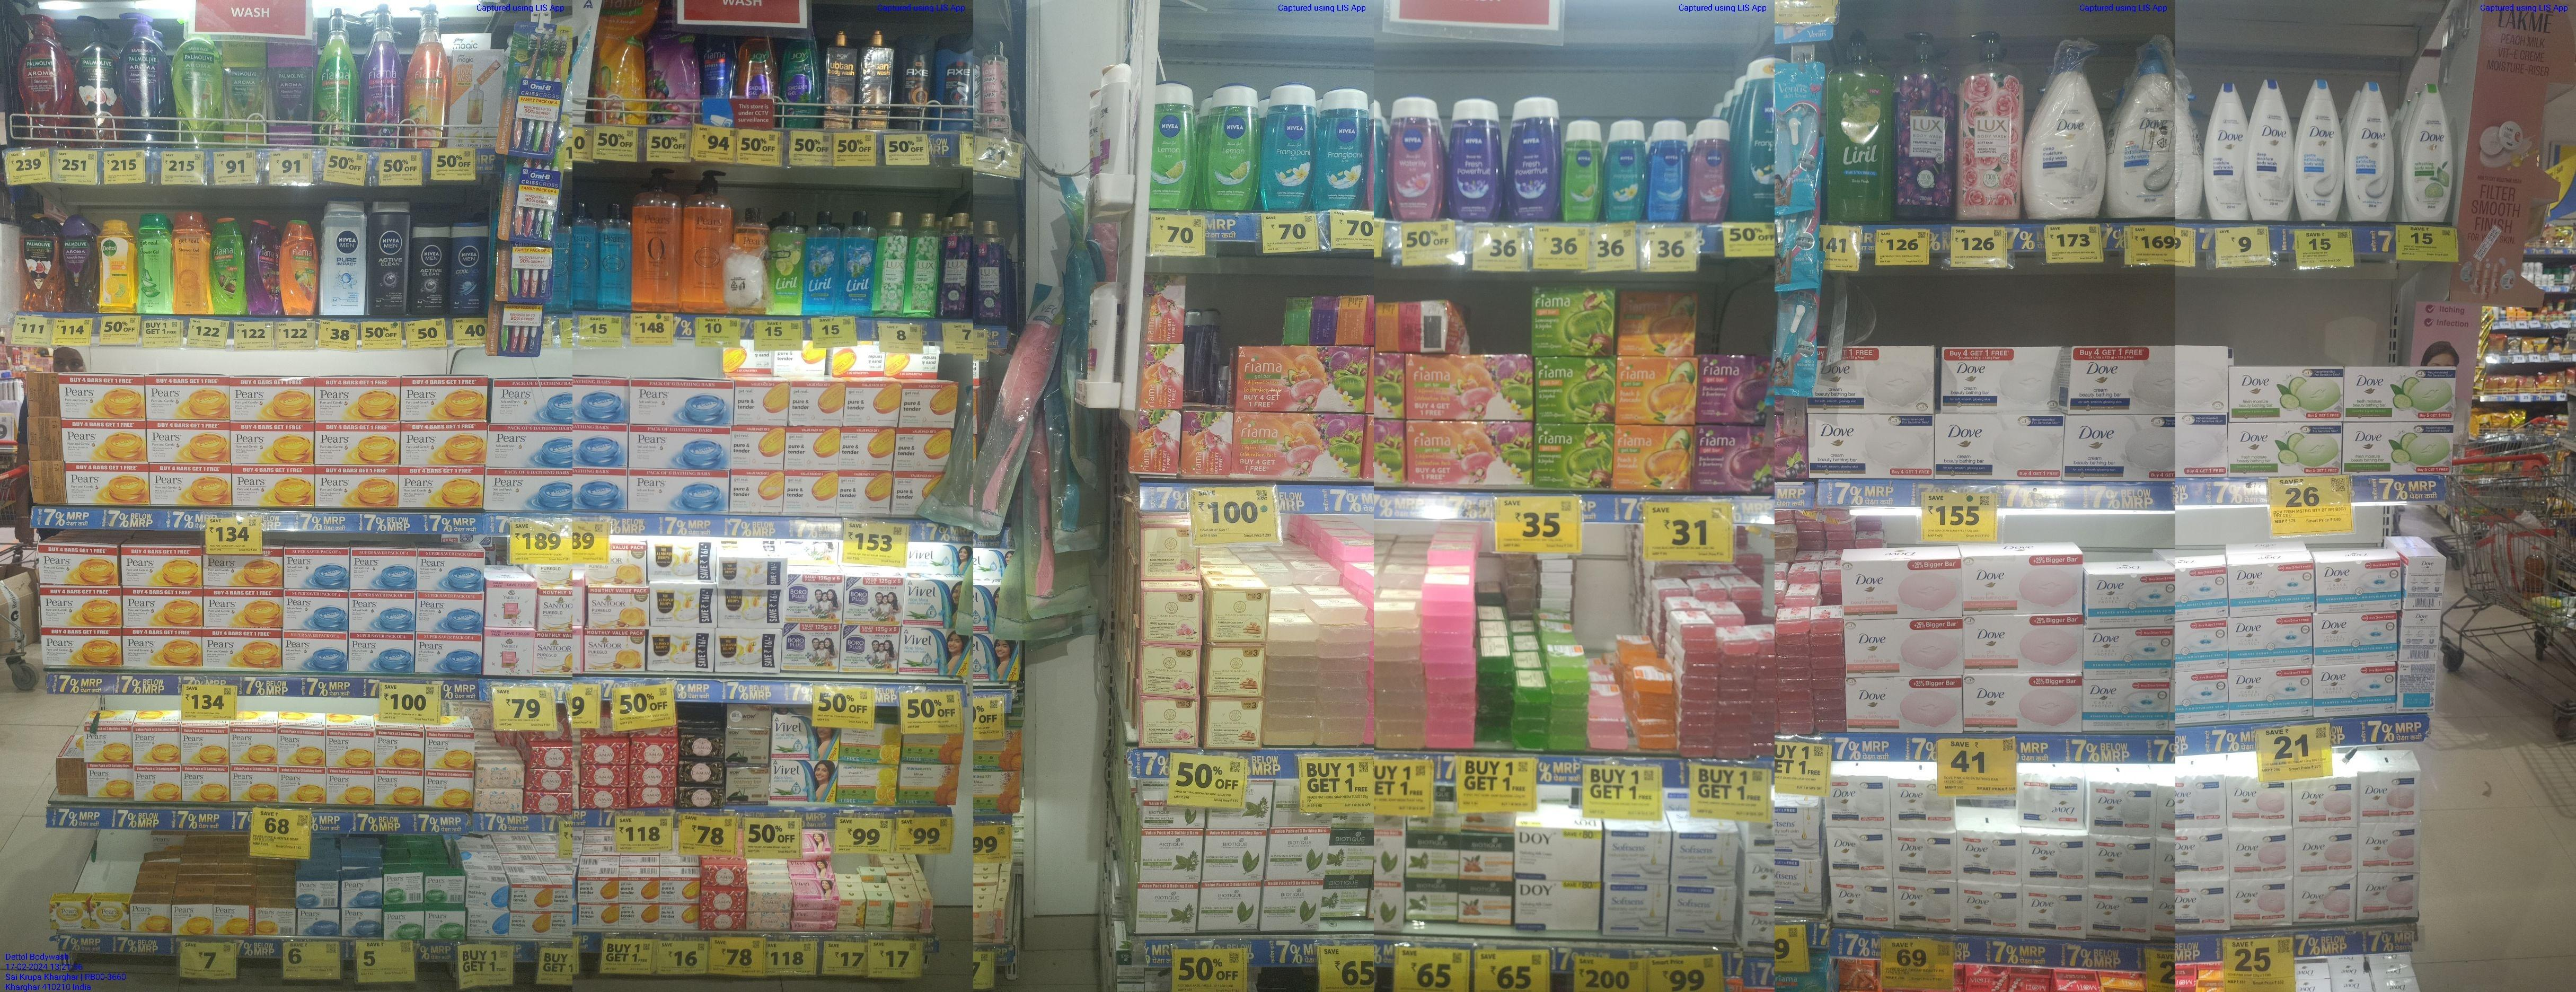Dettol_Bodywash_Refresh: (100, 218, 135, 315)
Dove_Deep_Moisture_Body_Wash_250ML: (2251, 80, 2293, 220), (2208, 82, 2249, 222)
Dove_Gentle_Exfoliating_Body_Wash_250ML: (2346, 80, 2394, 220), (2297, 79, 2343, 218)
Dove_Refreshing_Body_Wash_250ML: (2407, 82, 2454, 222)
Fiama_Shower_Gel_Lemongrass_and_Jojoba_250ML: (214, 217, 245, 314)
Fiama_Shower_Gel_Peach_and_Avocado_250ML: (281, 220, 317, 315)
Get_Real_Shower_Gel_Moisturising_Glycerin_300ML: (171, 212, 212, 314)
Liril_Cooling_Mint_Body_Wash_250ML: (805, 210, 838, 315), (841, 210, 874, 315)
Liril_Lime_and_Tea_Tree_Oil_Body_Wash_250ML: (770, 210, 802, 314)
Lux_Black_Orchid_Scent_and_Juniper_Oil_Body_Wash_245ML: (974, 220, 1007, 324), (940, 214, 973, 315)
Lux_Body_Wash_Skin_Detox_Freesia_Scent_and_Alove_Vera_245ML: (879, 210, 908, 315), (910, 212, 936, 317)
Nivea_Shower_Gel_Frangipani_and_Oil_250ML: (1322, 89, 1370, 207)
Nivea_Shower_Gel_Fresh_Powerfruit_250ML: (1263, 84, 1319, 214), (1508, 97, 1561, 218), (1449, 99, 1500, 220)
Nivea_Shower_Gel_Lemon_and_Oil_250ML: (1209, 89, 1258, 212), (1155, 85, 1196, 214)
Nivea_Shower_Gel_Waterlily_and_Oil_250ML: (1391, 97, 1441, 220)
Palmolive_Aroma_Relax_250ML: (61, 217, 97, 310)
Palmolive_Luminous_Oils_With_White_Orchid_Shower_Gel_250ML: (21, 214, 61, 314)
Pears_Pure_Glycerin_and_Mint_Extracts_Body_Wash_250ML: (596, 204, 631, 309), (572, 202, 596, 310)
